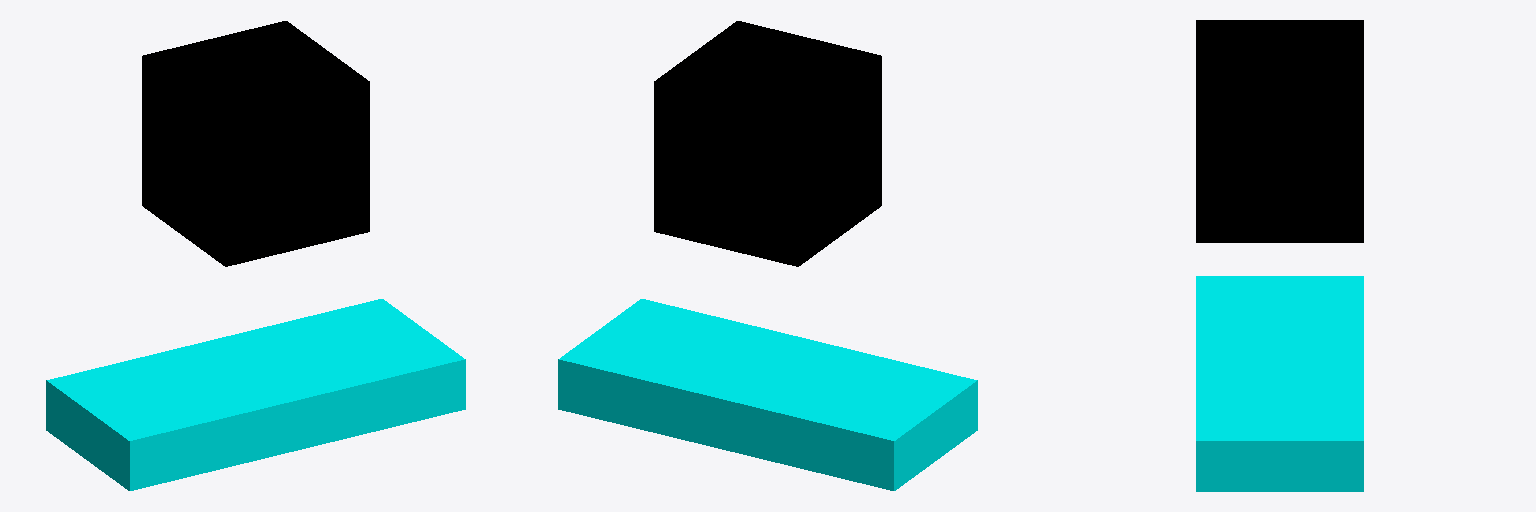
The robot description file, URDF, robot "VibrationFoot_2D":
<?xml version="1.0"?>
<robot name="VibrationFoot_2D">

<link name="Foot">

    <inertial>
      <origin xyz="0 0 0" rpy="0 0 0" />
      <mass value="0.05" />
      <inertia ixx="1e-5" ixy="0" ixz="0" iyy="2e-5" iyz="0" izz="1e-5" />
    </inertial>

    <visual>
    <origin xyz="0 0 0" rpy="0 0 0" />
    <geometry>
      <box size="0.07 0.03 0.01"/>
      </geometry>
      <material name="Black"> 
        <color rgba="0 1 1 1" />
      </material>
    </visual>

    <collision>
      <origin xyz="-0.035 0.015 -0.005"/>
      <geometry>
        <sphere radius="0" />
      </geometry>
    </collision>

    <collision>
      <origin xyz="0.035 0.015 -0.005"/>
      <geometry>
        <sphere radius="0" />
      </geometry>
    </collision>

    <collision>
      <origin xyz="-0.035 -0.015 -0.005"/>
      <geometry>
        <sphere radius="0" />
      </geometry>
    </collision>

    <collision>
      <origin xyz="0.035 -0.015 -0.005"/>
      <geometry>
        <sphere radius="0" />
      </geometry>
    </collision>

 </link>

<link name="Mass">

    <inertial>
      <origin xyz="0 0 0" rpy="0 0 0" />
      <mass value=" 1" />
      <inertia ixx="1.5e-4" ixy="0" ixz="0"
        iyy="1.5e-4" iyz="0" izz="1.5e-4" />
    </inertial>

    <visual>
      <origin xyz="0 0 0" rpy="0 0 0" />
      <geometry>
        <box size="0.03 0.03 0.03"/>
      </geometry>
      <material name="Black"> 
        <color rgba="0 0 0 0" />
      </material>
    </visual>

</link>

<joint name="SpringLength" type="prismatic">

    <origin xyz="0 0 0.05" rpy="0 0 0" />
    <parent link="Foot" />
    <child link="Mass" />
    <axis xyz="0 0 1" />
    <dynamics damping="200"/> 

</joint>

<force_element name="MaterialSpring">

    <prismatic_spring stiffness="1e6" rest_length="0">
      <joint name="SpringLength" />
    </prismatic_spring>

</force_element>


<!--- Actuator Inputs -->

<transmission type="SimpleTransmission" name="VibrationMotor">
    <actuator name="PagerMotor" />
    <joint name="SpringLength" />
    <mechanicalReduction>1</mechanicalReduction>
</transmission>


</robot>

--- Render facts (derived) ---
The picture shows the robot from 3 angles, left to right: view 1: azimuth 30°, elevation 25°; view 2: azimuth 150°, elevation 25°; view 3: azimuth 270°, elevation 25°; orthographic projection.
Model VibrationFoot_2D with 2 links and 1 joints (1 prismatic), rooted at Foot, posed every joint at zero.
Visible links, largest first — view 1: Foot, Mass; view 2: Foot, Mass; view 3: Mass, Foot.
Link boxes in pixels (bbox=[...]): Foot: bbox=[46, 299, 465, 490]; Mass: bbox=[142, 21, 369, 266]; Foot: bbox=[558, 299, 977, 490]; Mass: bbox=[654, 21, 881, 266]; Mass: bbox=[1196, 20, 1363, 242]; Foot: bbox=[1196, 276, 1363, 491].
Size in the robot's own frame: 0.07 by 0.03 by 0.07 metres.
Geometry: primitives only (box / cylinder / sphere), no mesh files.